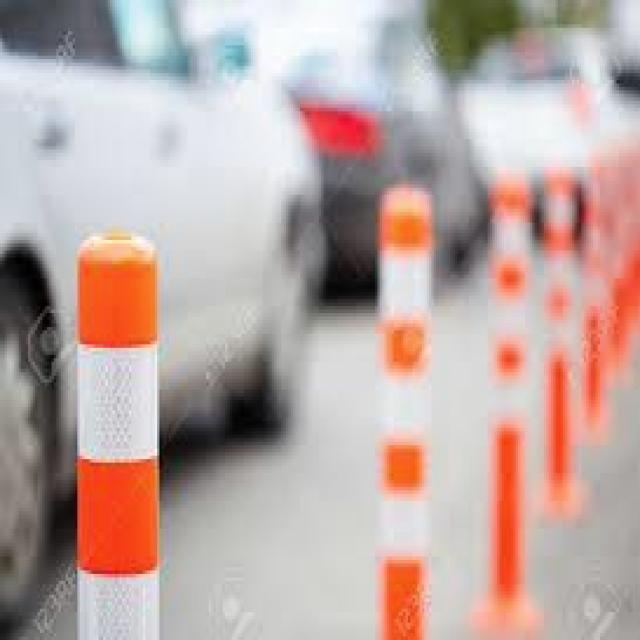bollard: (463, 153, 550, 638), (71, 216, 165, 640), (371, 180, 439, 638), (536, 147, 598, 523), (572, 142, 621, 449)
